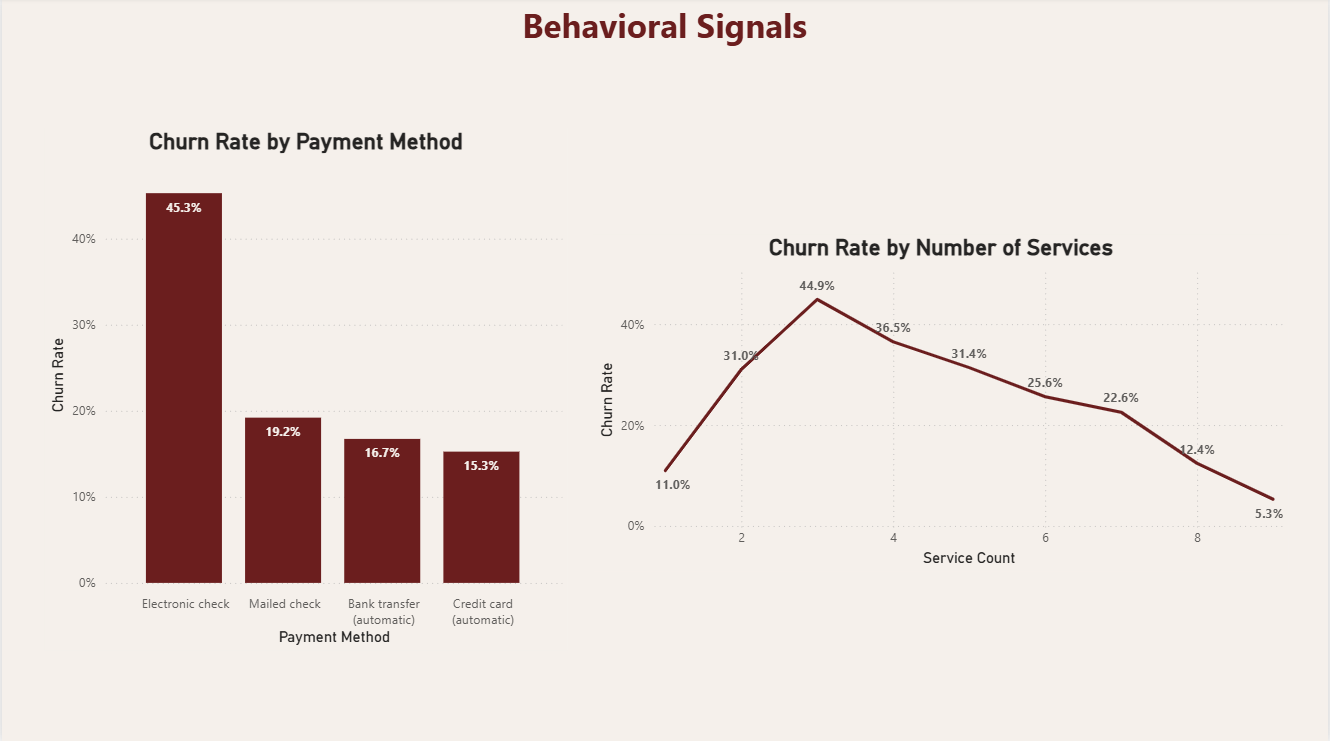

The dashboard page shown, as its layout file describes it:
{"tool":"powerbi","page":{"name":"Behavioral Signals","canvas":[1280,720],"ordinal":5},"visuals":[{"type":"textbox","box":[490.4,0,299.6,62.4],"z":0},{"type":"columnChart","fields":{"Category":["telco_churn_cleaned.Payment Method"],"Y":["telco_churn_cleaned.Churn Rate"]},"box":[41.6,127.2,505,503.8],"z":1000},{"type":"lineChart","title":"Churn Rate by Number of Services","fields":{"Category":["telco_churn_cleaned.Service Count"],"Y":["telco_churn_cleaned.Churn Rate"]},"box":[571.1,228.7,671.3,325.3],"z":2000}]}

Visuals, with their boxes in screenshot pixels (x1, y1, x2, y2), scaled from the page's 1280x720 canvas onto the 1330x741 screenshot:
textbox: 510 0 821 64
columnChart - telco_churn_cleaned.Payment Method x telco_churn_cleaned.Churn Rate: 43 131 568 649
"Churn Rate by Number of Services" lineChart: 593 235 1291 570
